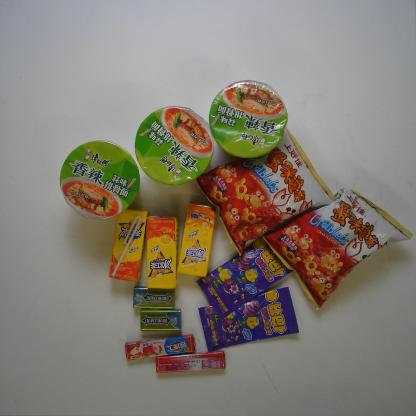Candy: (195, 229, 299, 319), (198, 287, 300, 351), (124, 333, 194, 361), (155, 351, 226, 373)
Drink: (177, 203, 217, 277), (109, 209, 148, 282), (145, 215, 179, 289)
Gum: (140, 307, 182, 332), (132, 286, 175, 309)
Instant Noodles: (59, 140, 140, 220), (134, 106, 214, 186), (208, 80, 288, 158)
Puffed Food: (195, 124, 337, 256), (262, 186, 413, 310)
